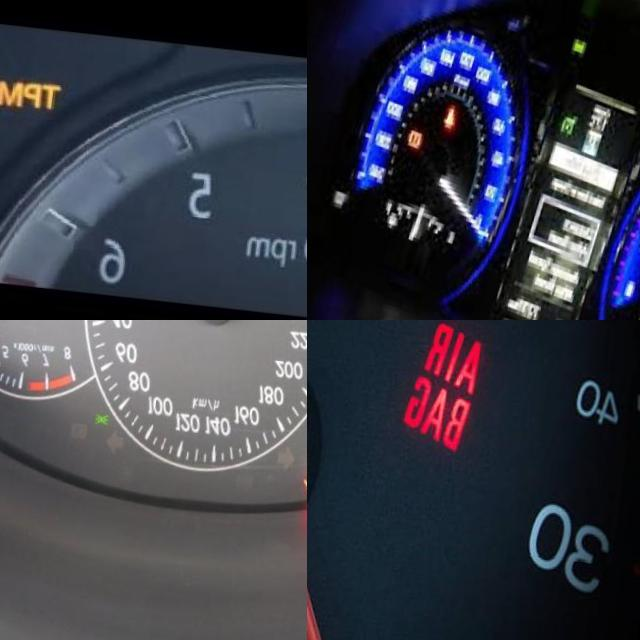Seat Belt: (447, 101, 462, 126)
